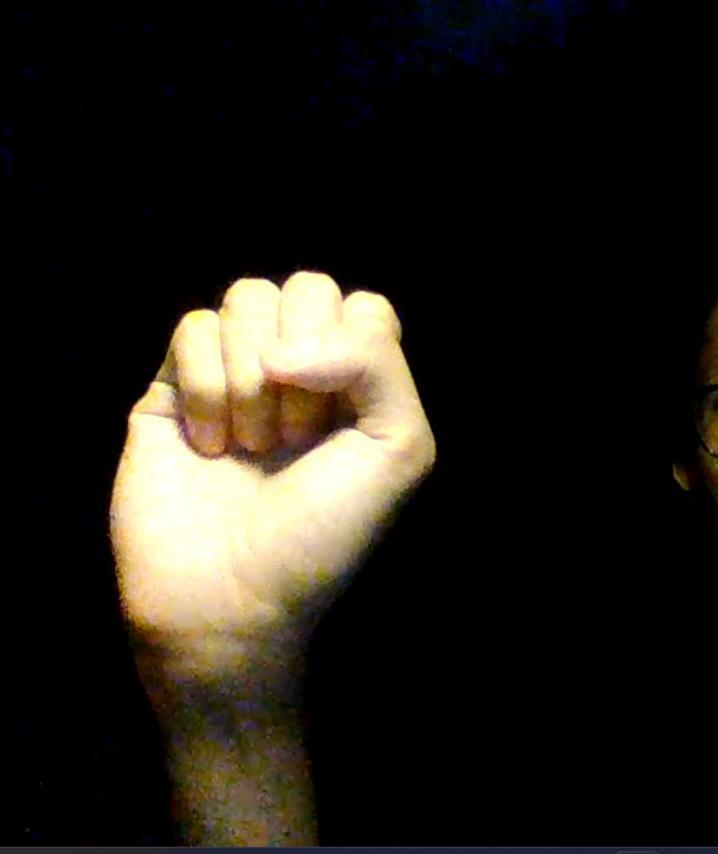s: (107, 269, 437, 643)
